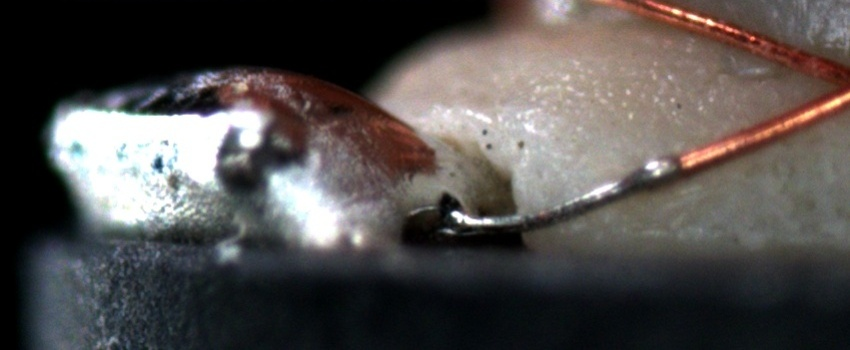CL: (805, 49, 849, 120)
TS: (449, 156, 682, 231)
TTCW: (447, 138, 730, 233)
